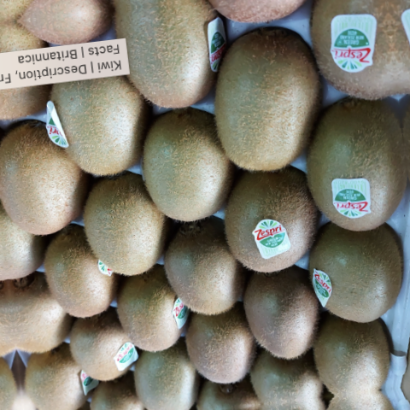kiwi: (195, 18, 343, 194), (36, 52, 160, 194), (292, 98, 409, 244), (113, 0, 245, 125), (0, 99, 98, 248), (73, 162, 178, 290), (233, 249, 334, 373), (219, 161, 316, 281), (38, 217, 130, 328), (105, 261, 198, 359), (157, 231, 246, 330)
